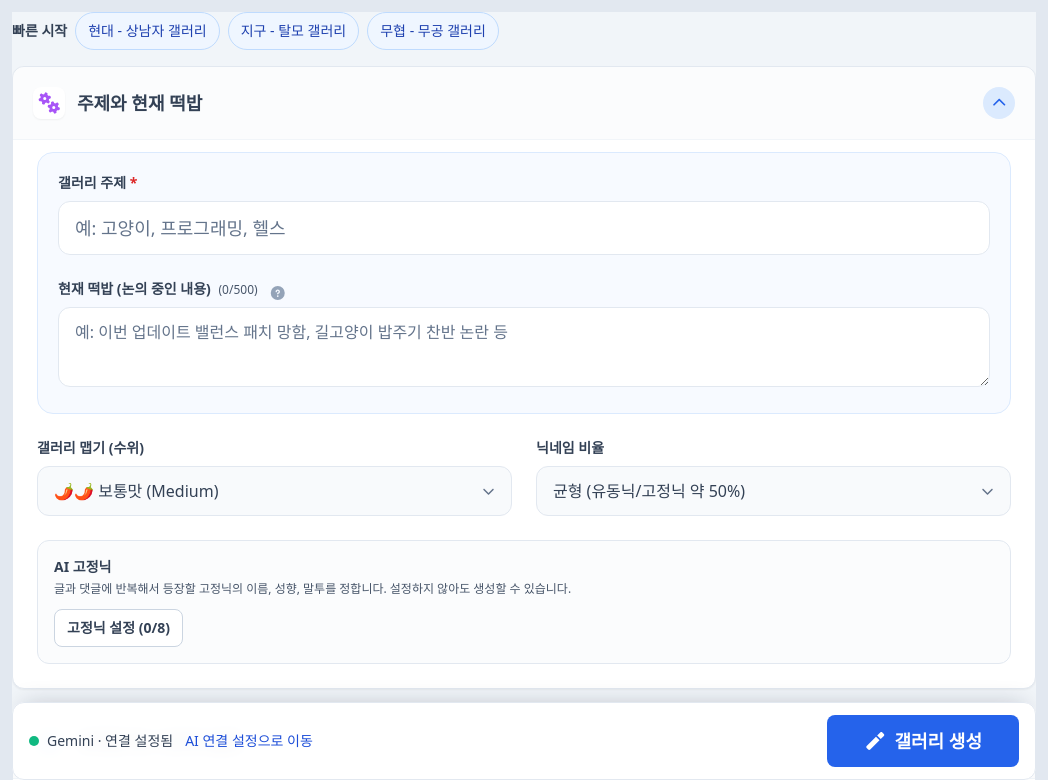
Test case: gallery form validation › opens generation options and focuses the topic on the first invalid submit
The width and height of the screenshot is (1048, 780).
Click the button "주제와 현재 떡밥" at (49, 103), box [13,67,1035,139]
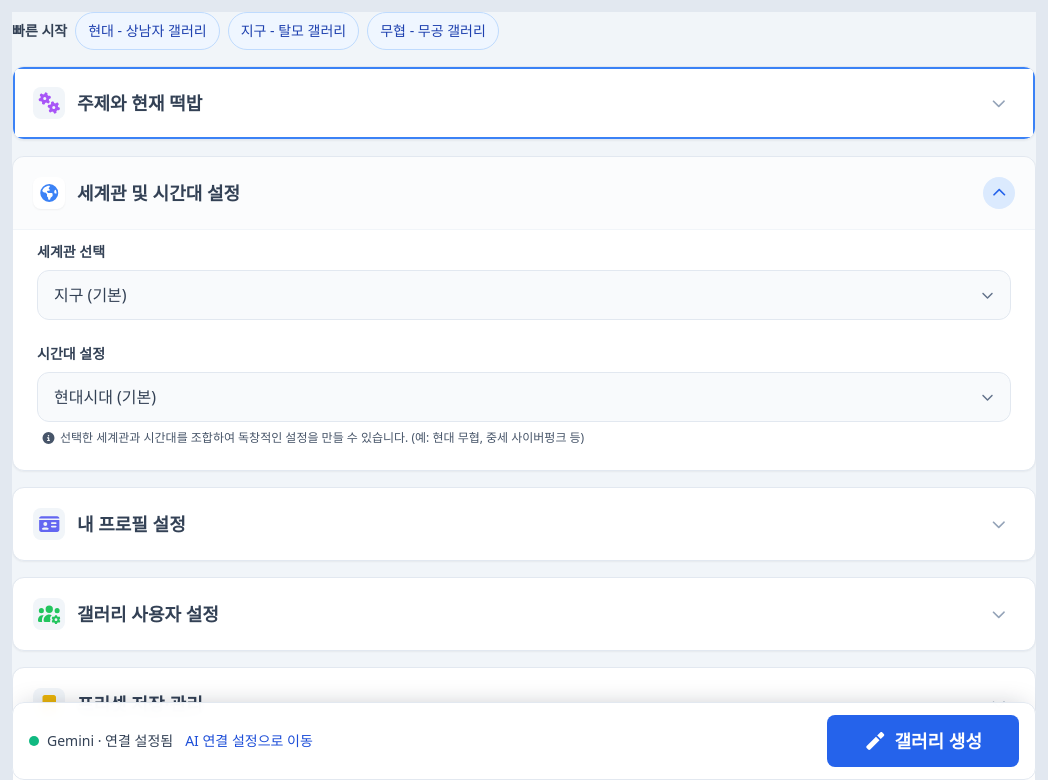
Click the button "갤러리 생성" at (923, 741), box [827,715,1019,767]
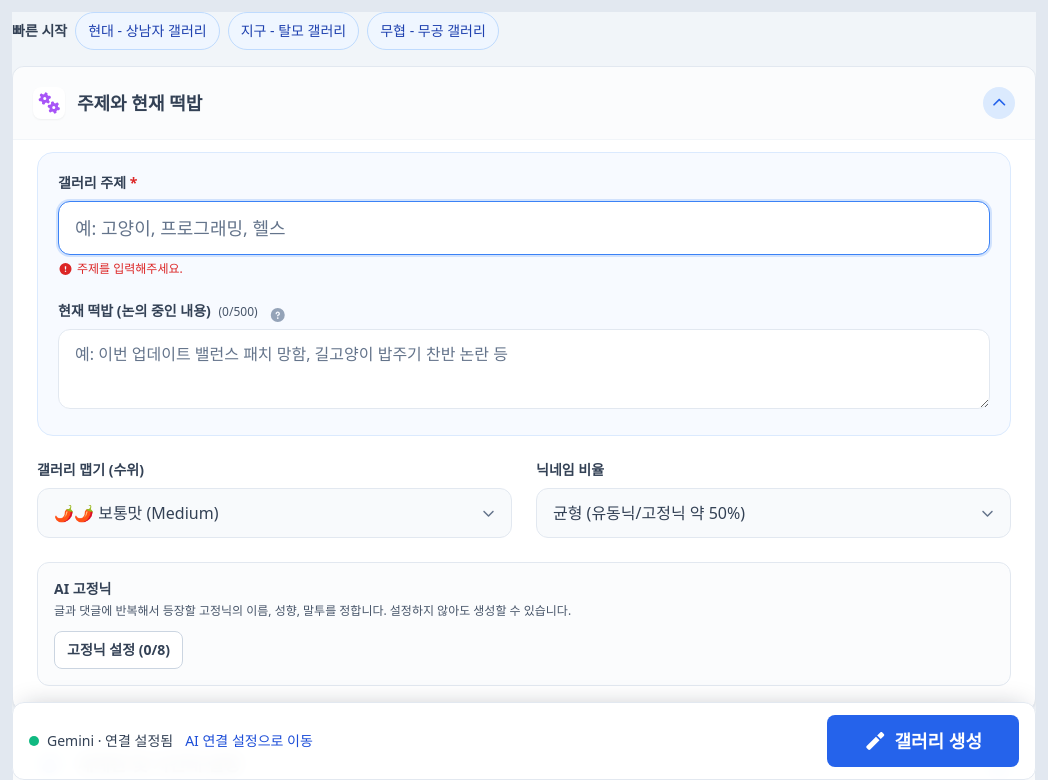
Expected: the message "주제를 입력해주세요." is shown, [58,260,183,277]
